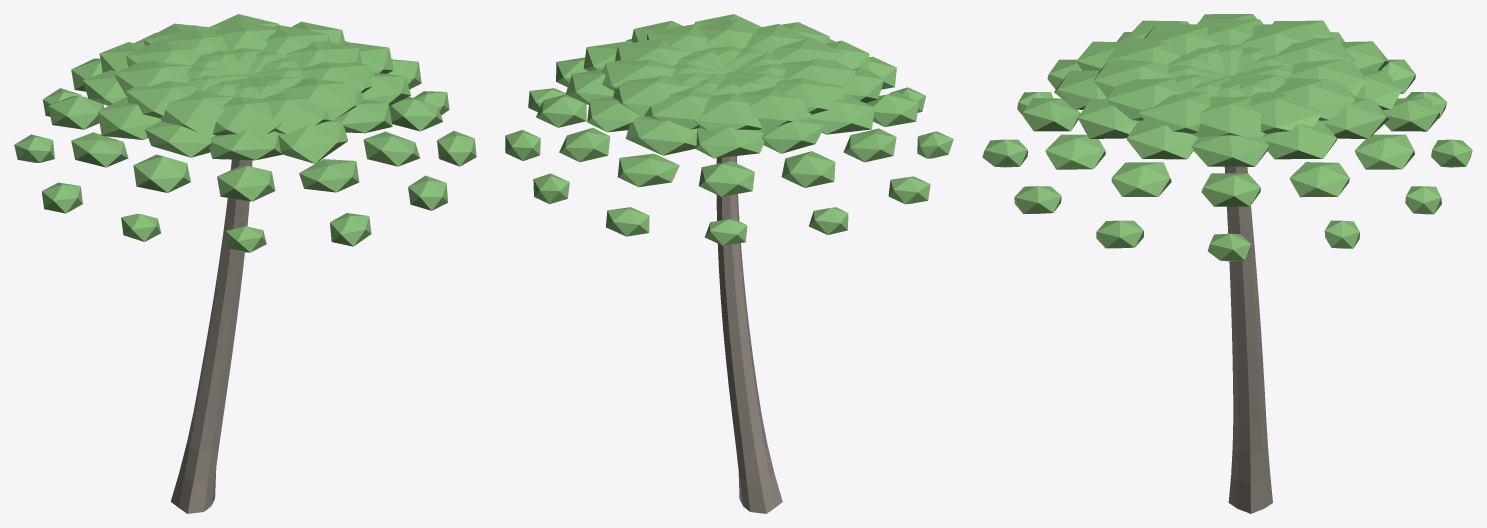
Rendered from tree_palm.glb.
The picture shows the model from 3 angles, left to right: view 1: azimuth 30°, elevation 25°; view 2: azimuth 150°, elevation 25°; view 3: azimuth 270°, elevation 25°; orthographic projection. The views are drawn at different scales.
Visible parts, largest first — view 1: tree_palm; view 2: tree_palm; view 3: tree_palm.
Part boxes in pixels (<box>): tree_palm: <box>14,14,476,513</box>; tree_palm: <box>505,14,953,513</box>; tree_palm: <box>982,14,1472,513</box>.
Size of the model in its own units: 7.13 by 7.27 by 7.03.
